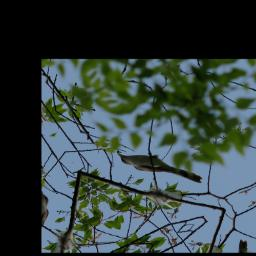Cuckoo: (115, 129, 204, 207)
